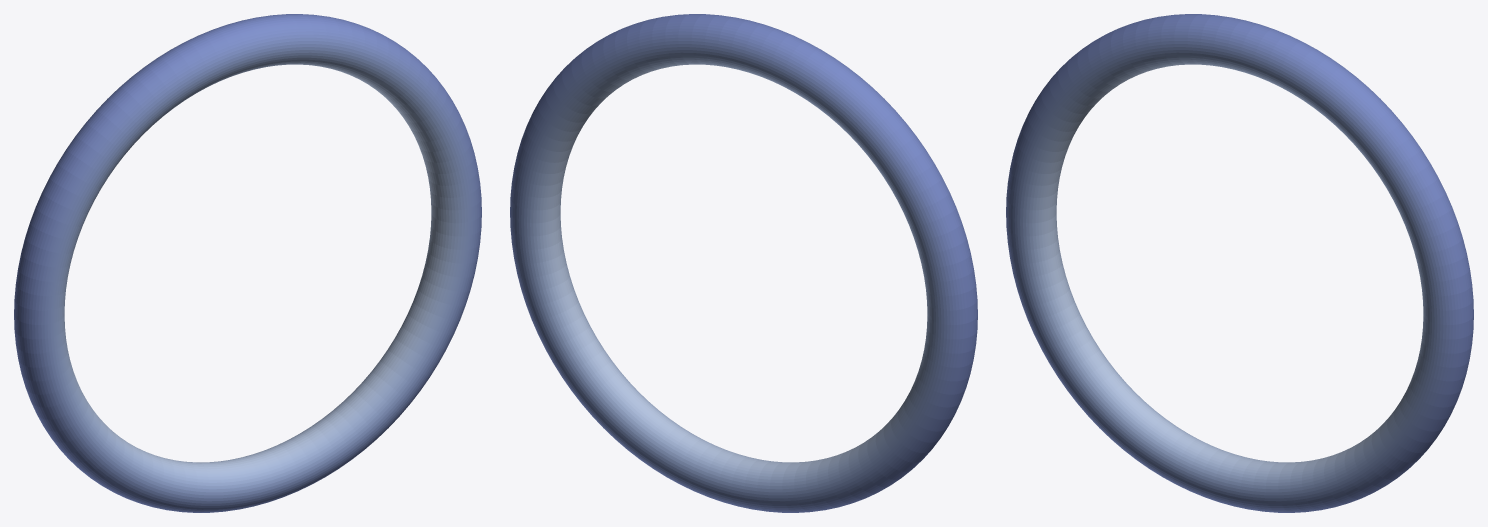
The picture shows the model from 3 angles, left to right: view 1: azimuth 30°, elevation 25°; view 2: azimuth 150°, elevation 25°; view 3: azimuth 330°, elevation 25°; orthographic projection.
Visible parts, largest first — view 1: world; view 2: world; view 3: world.
Boxes of the visible parts, box(x1,y1,x2,y2) form: world: box(14, 14, 481, 512); world: box(510, 14, 977, 512); world: box(1006, 14, 1473, 512).
Bounding box in the file's own units: 29.47 × 29.47 × 2.79.
